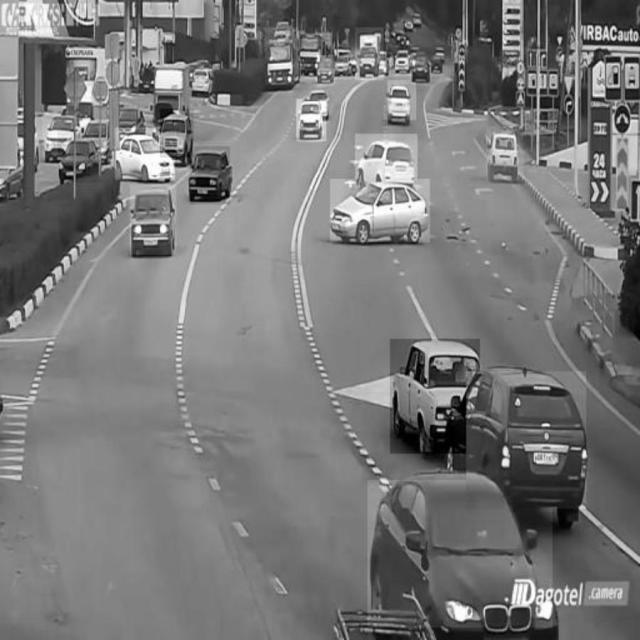vehicle: (368, 481, 553, 628), (466, 373, 586, 510), (390, 339, 480, 453), (330, 179, 430, 243), (130, 185, 176, 255), (115, 128, 176, 180), (354, 134, 418, 179), (190, 146, 230, 204), (58, 131, 99, 183), (487, 126, 524, 181), (265, 29, 299, 86), (160, 109, 194, 157), (43, 112, 75, 158), (355, 28, 383, 80), (297, 99, 327, 141), (388, 81, 416, 121), (189, 63, 215, 97), (411, 53, 431, 83), (316, 55, 334, 83)
